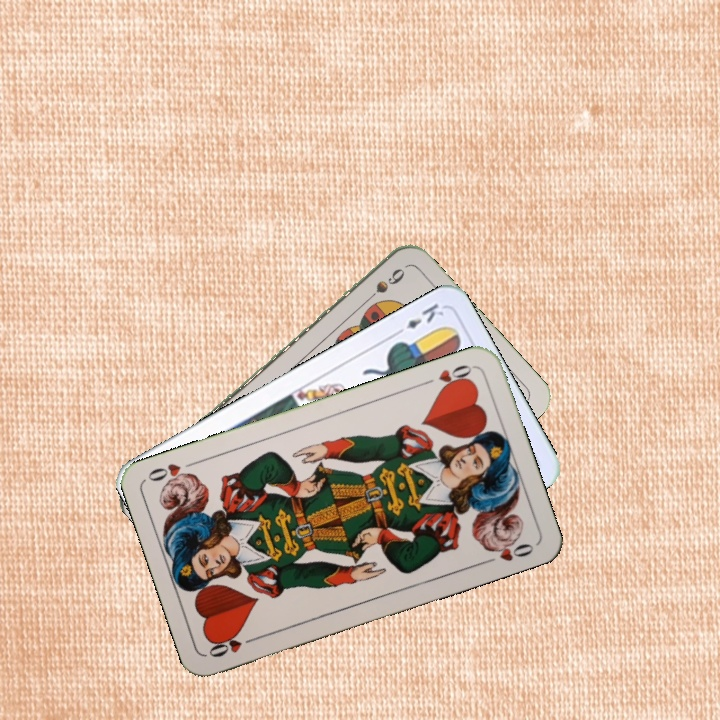EK: (390, 299, 447, 339)
HO: (419, 360, 476, 394), (204, 631, 262, 660)
S9: (359, 264, 408, 307)
